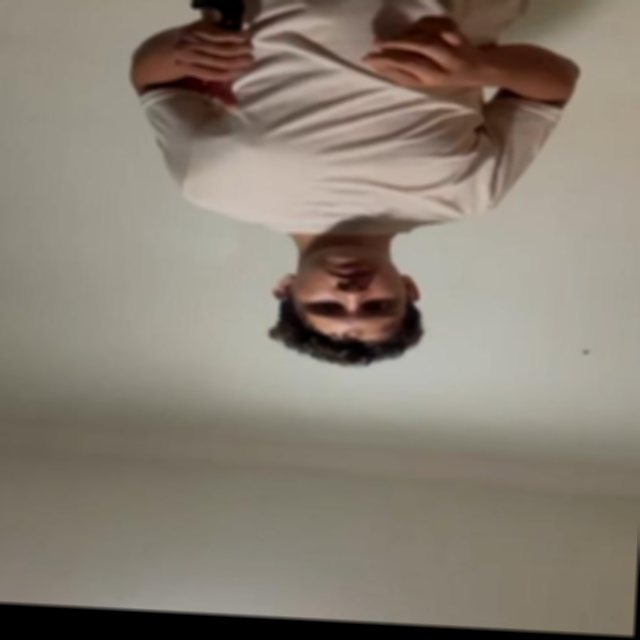Sharp-Object: (187, 0, 260, 17)
